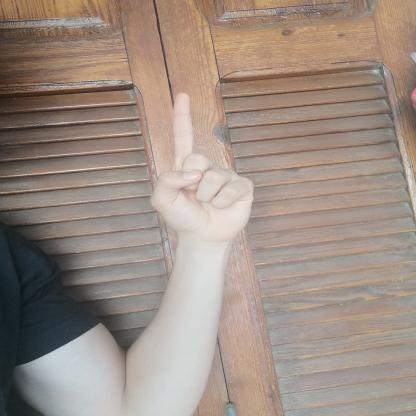BAA: (138, 80, 274, 247)
